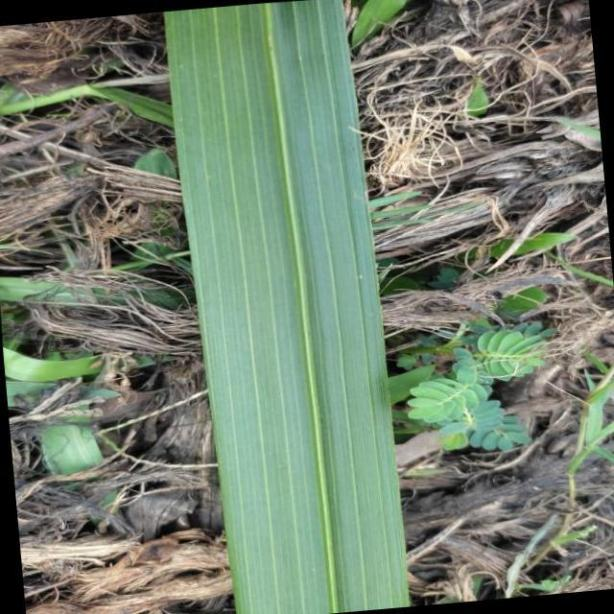Healthy: (165, 7, 417, 614)
